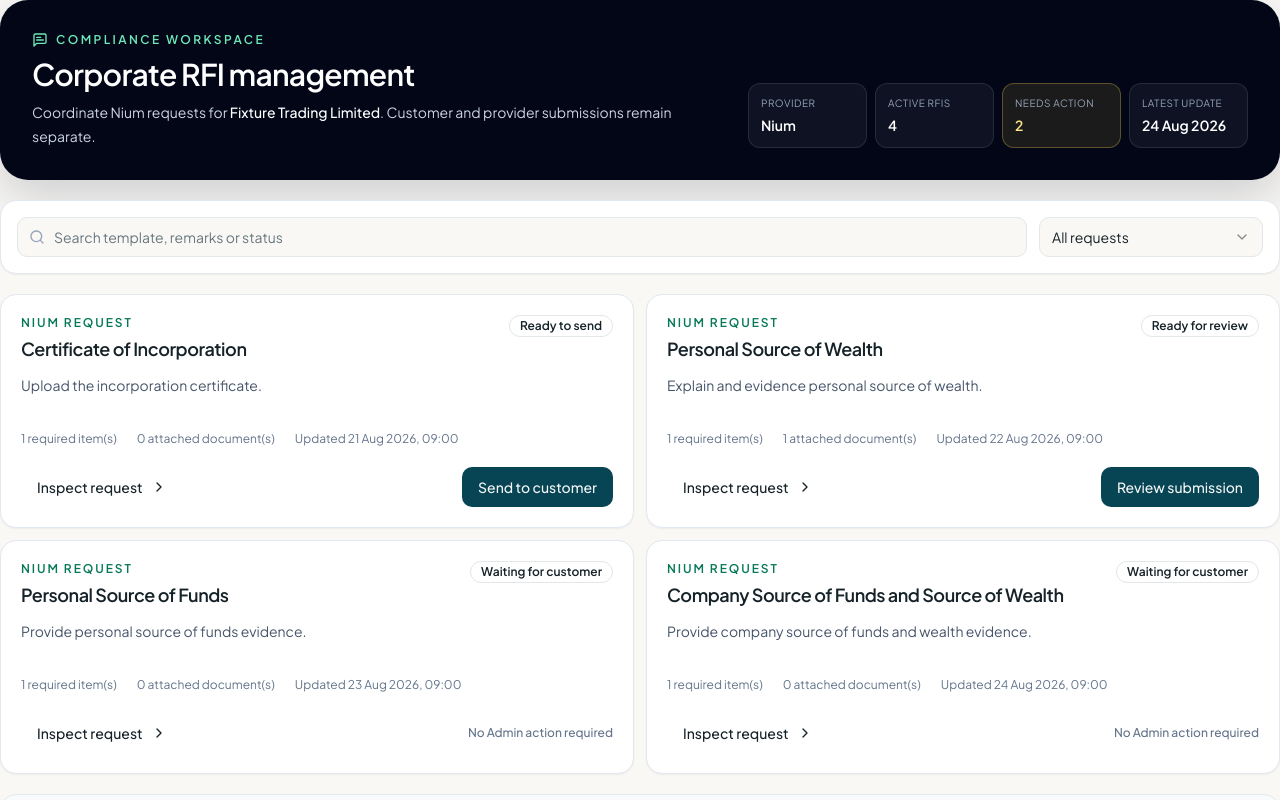
Test: renders a customer workspace with four authoritative requests and separate historical evidence
expect the heading "Corporate RFI management" is shown: met, box [32,55,415,93]
expect the field named "Search Corporate RFI requests" is shown: met, box [17,217,1027,257]
Click the button "Inspect request" below "Upload the incorporation certificate.".
click(102, 487)  # box [21,467,183,507]
(page scrolled)
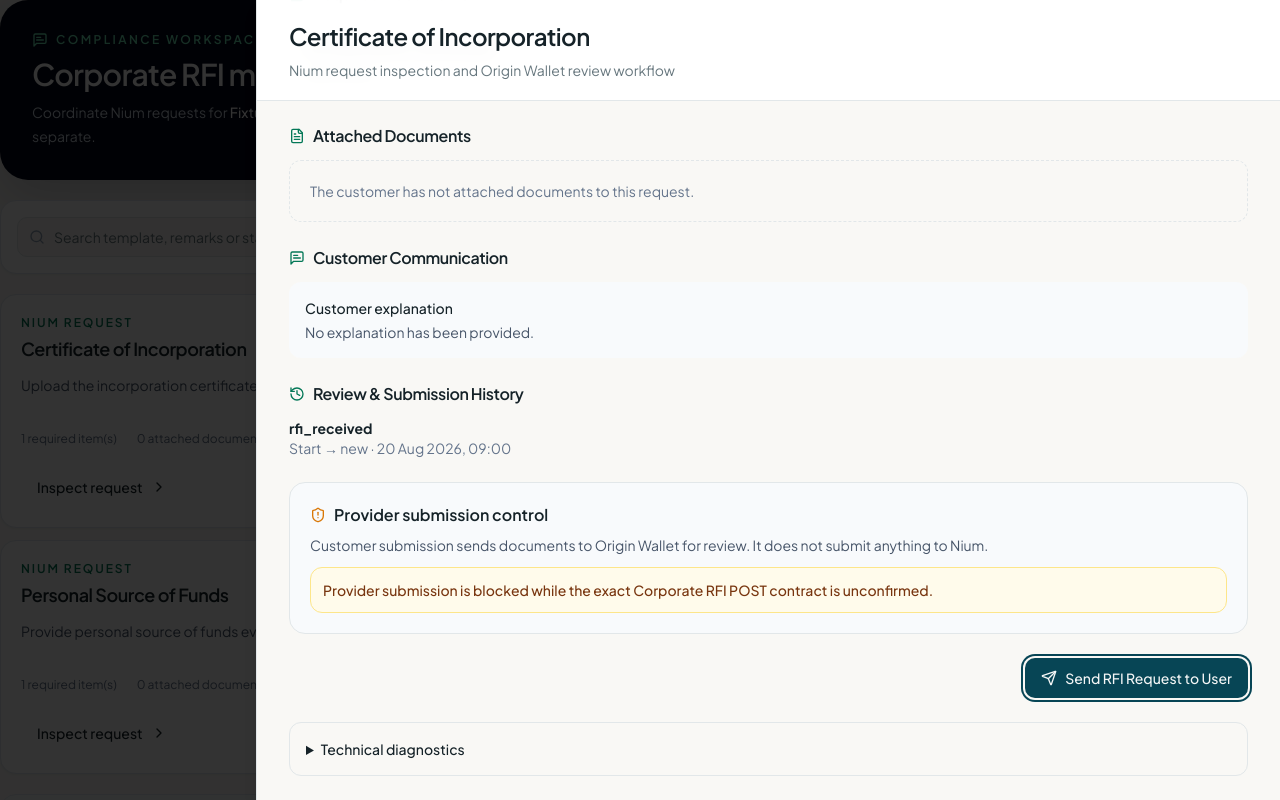
expect the text "Incorporation certificate" is shown: met, box [306,36,493,57]
expect the text "Provider submission is blocked" is shown: met, box [323,581,933,599]
